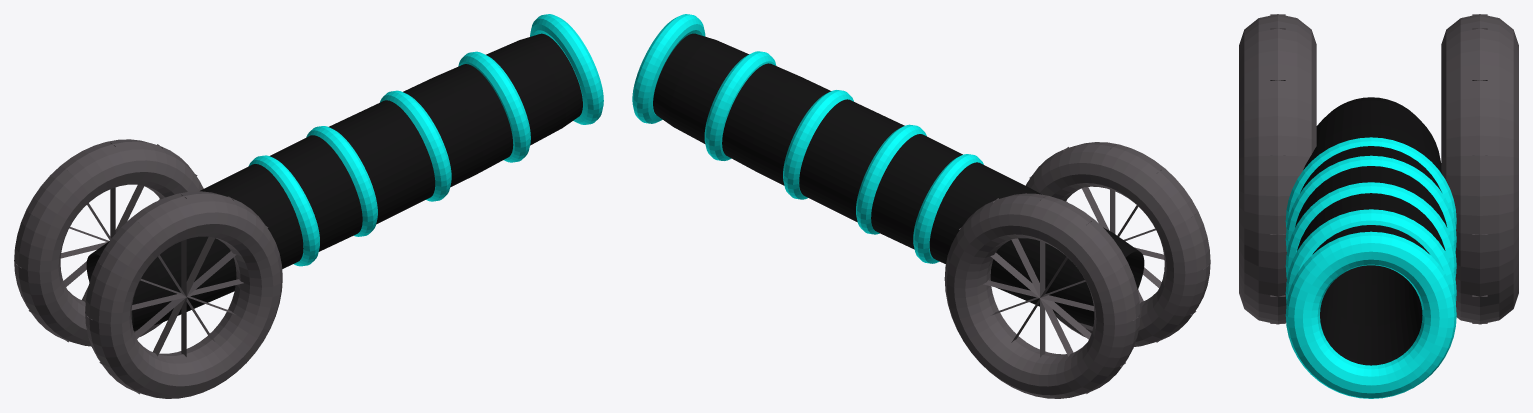
The model's file is Kek agyu.glb.
The picture shows the model from 3 angles, left to right: view 1: azimuth 30°, elevation 25°; view 2: azimuth 150°, elevation 25°; view 3: azimuth 270°, elevation 25°; orthographic projection. The views are drawn at different scales.
Visible parts, largest first — view 1: Torus.006; view 2: Torus.006; view 3: Torus.006.
Boxes of the visible parts, <box> form: Torus.006: <box>14,14,603,398</box>; Torus.006: <box>632,14,1210,398</box>; Torus.006: <box>1239,14,1518,398</box>.
Size of the model in its own units: 3.82 by 1.74 by 1.23.
